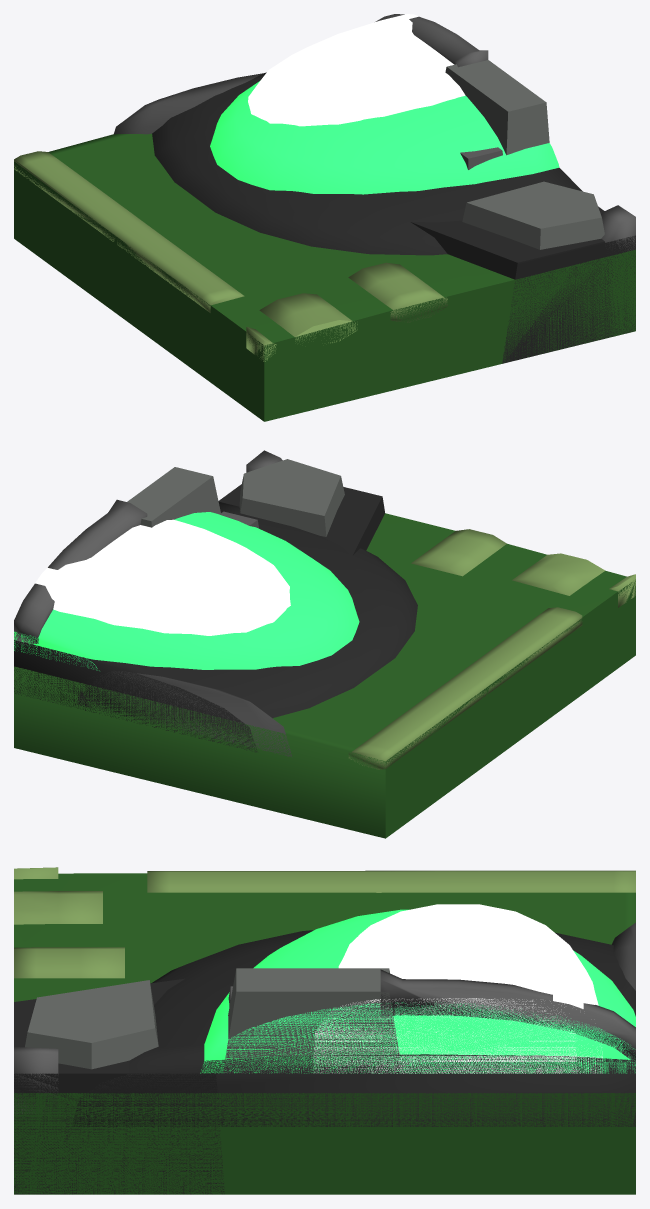
The model's file is newshj-161.glb.
3 views of the same model, one above another, from view 1: azimuth 30°, elevation 25°; view 2: azimuth 150°, elevation 25°; view 3: azimuth 270°, elevation 25° (orthographic). The views are drawn at different scales.
Visible parts, largest first — view 1: newshj-161, newshj-161-core; view 2: newshj-161, newshj-161-core; view 3: newshj-161, newshj-161-core, newshj-161-core-small.
Part boxes in pixels (x1,y1,x2,y2): newshj-161: (14, 14, 635, 421); newshj-161-core: (248, 14, 465, 126); newshj-161: (14, 450, 635, 838); newshj-161-core: (35, 519, 290, 635); newshj-161: (14, 867, 635, 1194); newshj-161-core: (313, 904, 603, 1073); newshj-161-core-small: (371, 973, 577, 1073).
Size of the model in its own units: 2 by 0.8899 by 2.33.
